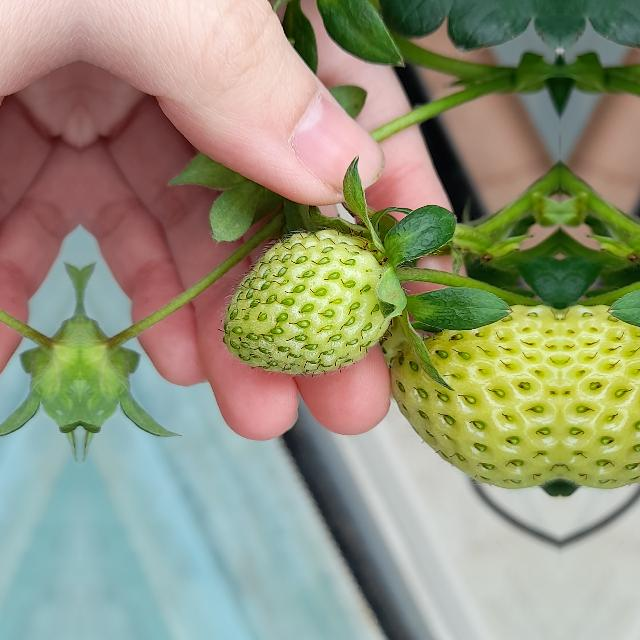Health_25: (386, 287, 560, 488), (222, 228, 384, 374), (560, 287, 640, 488)
